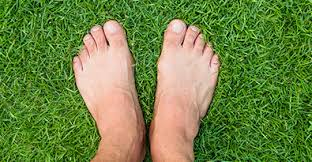Feet: (71, 18, 146, 162), (148, 18, 222, 162)
